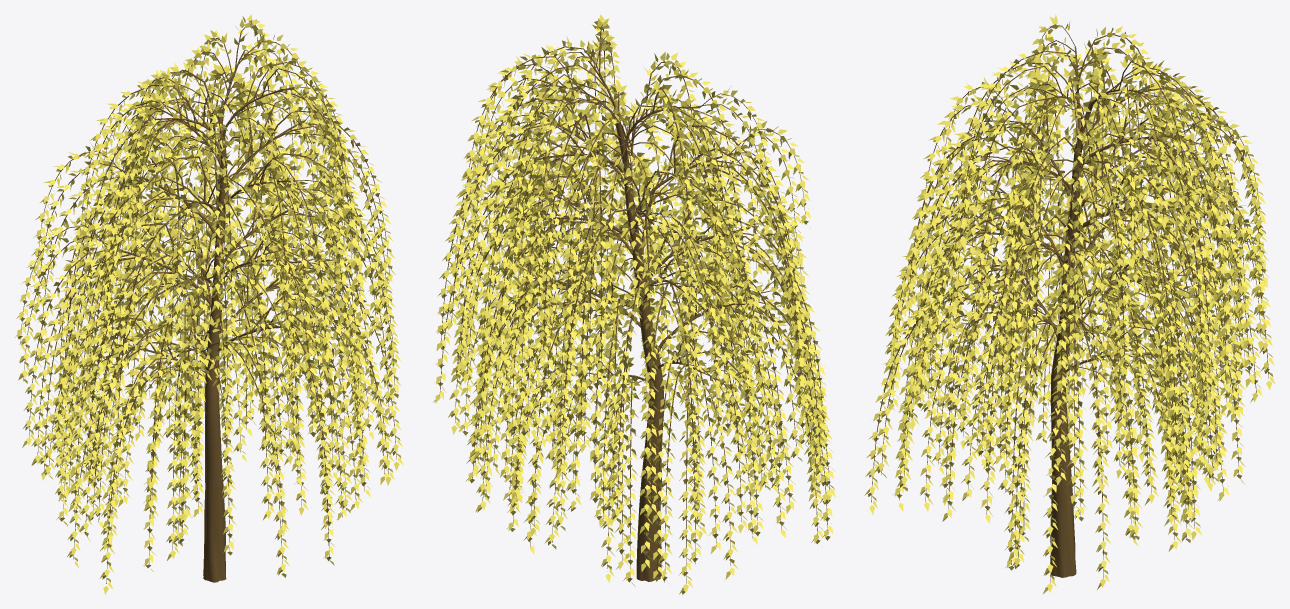
Rendered from Baum4 Neu.FBX.
The picture shows the model from 3 angles, left to right: view 1: azimuth 30°, elevation 25°; view 2: azimuth 150°, elevation 25°; view 3: azimuth 270°, elevation 25°; orthographic projection. The views are drawn at different scales.
Parts seen in each view (by area): view 1: Foliage005; view 2: Foliage005; view 3: Foliage005.
Part boxes in pixels (box(x1,y1,x2,y2)): Foliage005: box(15, 14, 403, 594); Foliage005: box(433, 14, 835, 594); Foliage005: box(864, 14, 1275, 593).
Bounding box in the file's own units: 733 × 1106 × 748.
